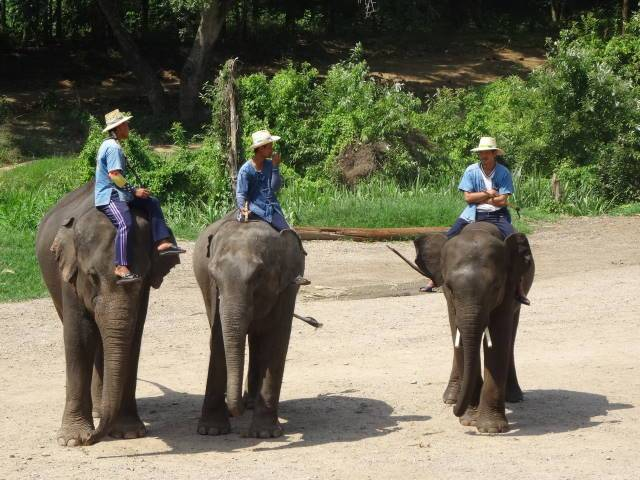elephant: (29, 165, 174, 453), (408, 215, 555, 437), (189, 207, 316, 457)
